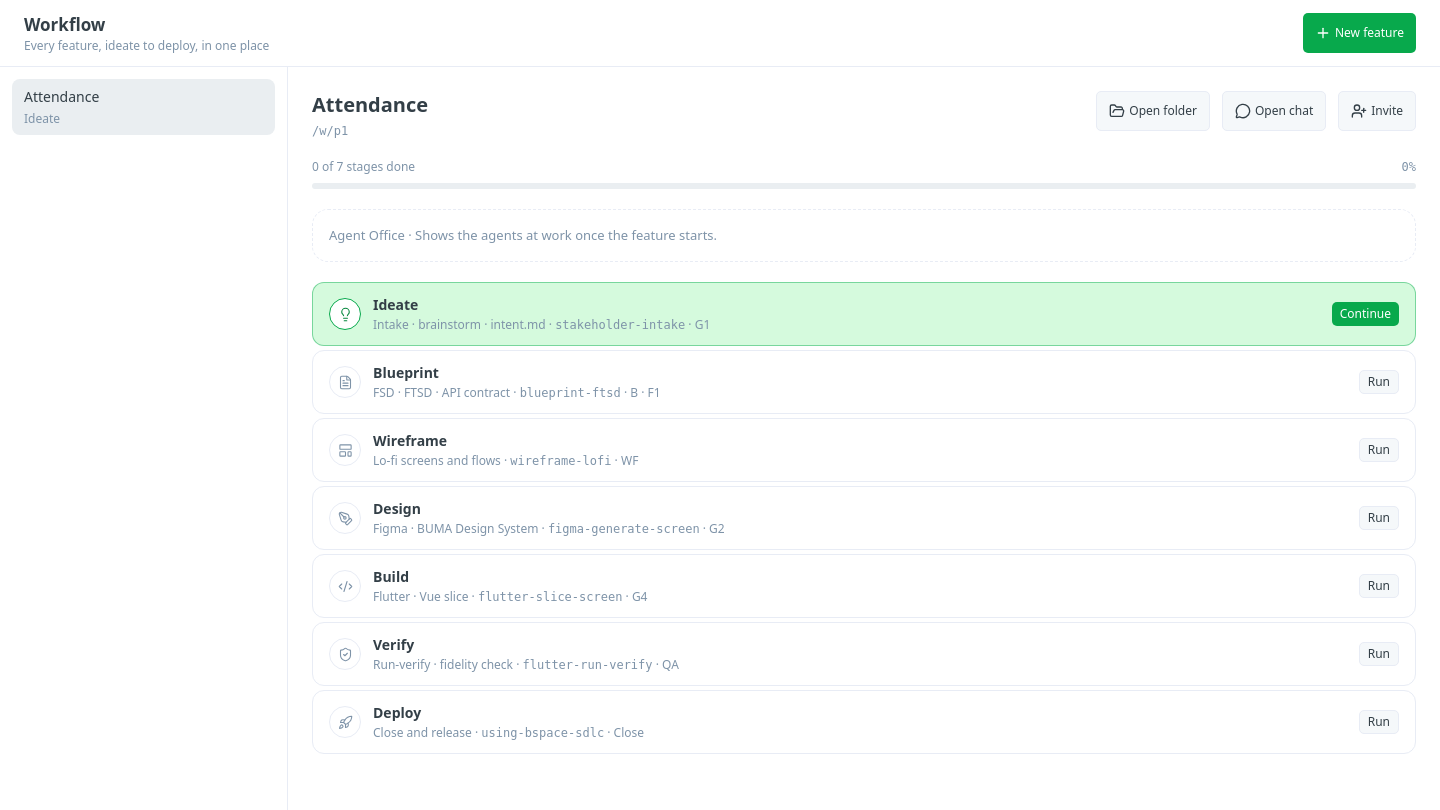
Scenario: Invite to a feature › shows Azure DevOps' own words when it refuses
Click the button "Invite".
click(1377, 110)  # box [1338,90,1416,130]
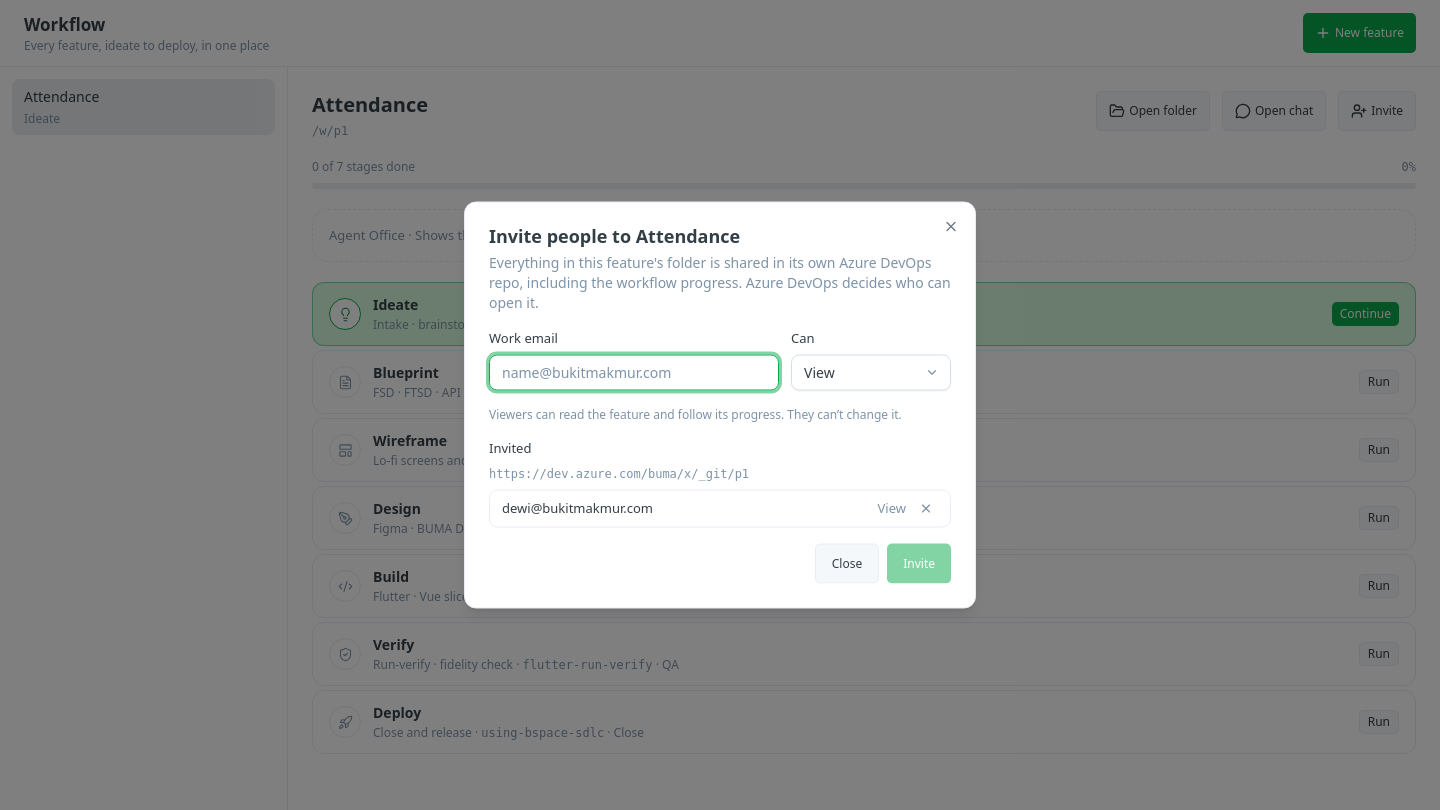
Type "x@y.co" into the field.
click(634, 372); type("x@y.co")  # box [489,354,779,390]
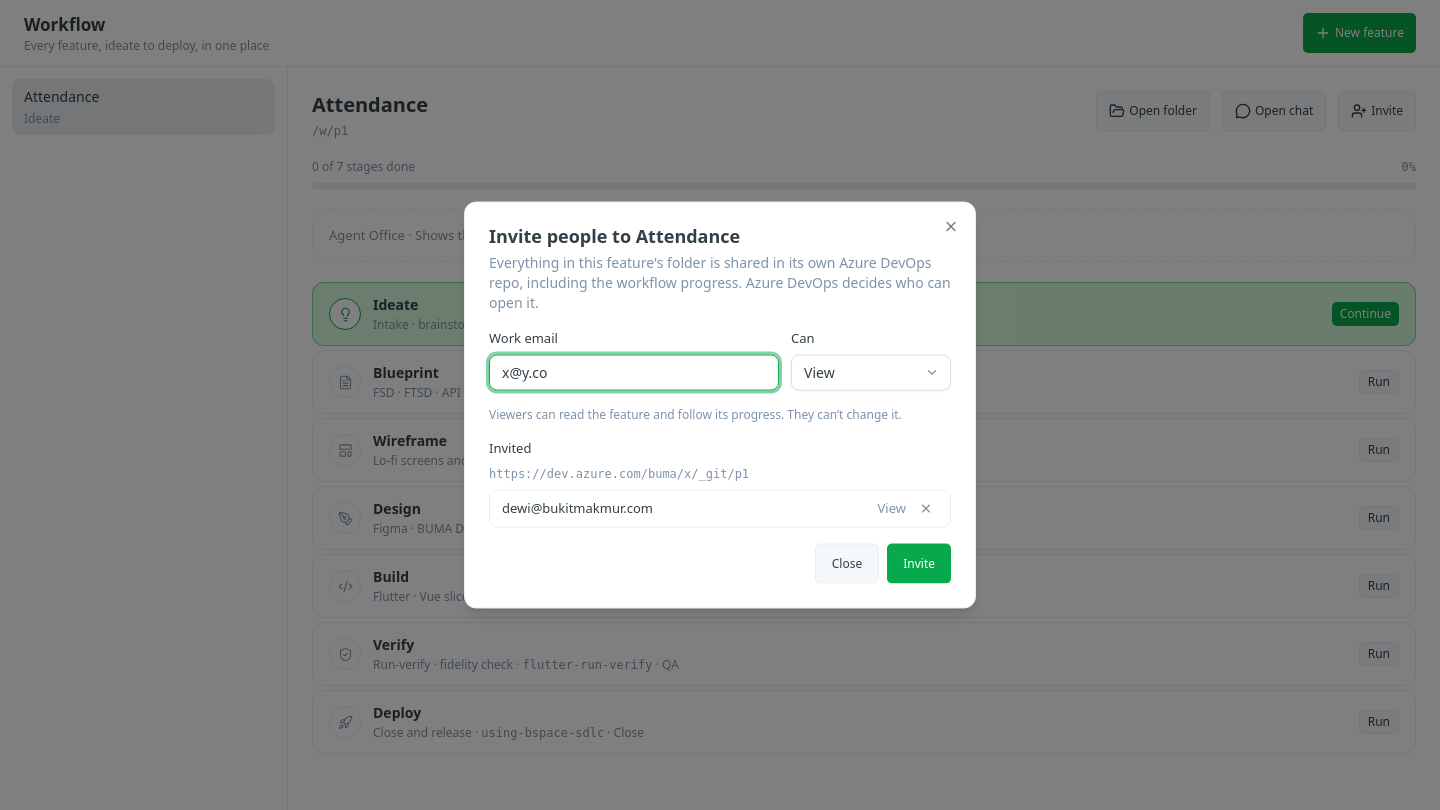
Click the button "Invite".
click(919, 564)  # box [887,544,951,584]
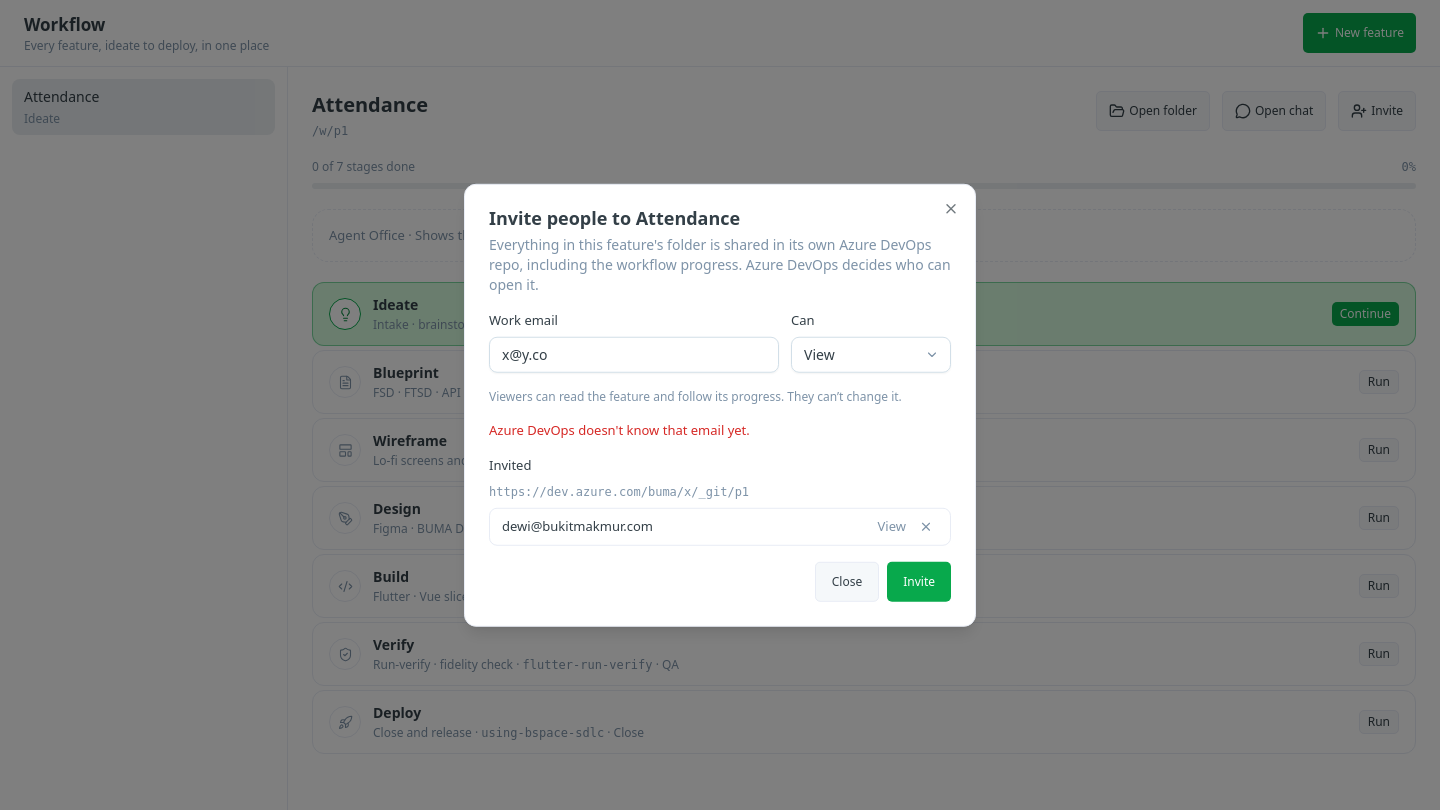
Expected: the message shows "doesn't know that email", [489,420,750,438]
